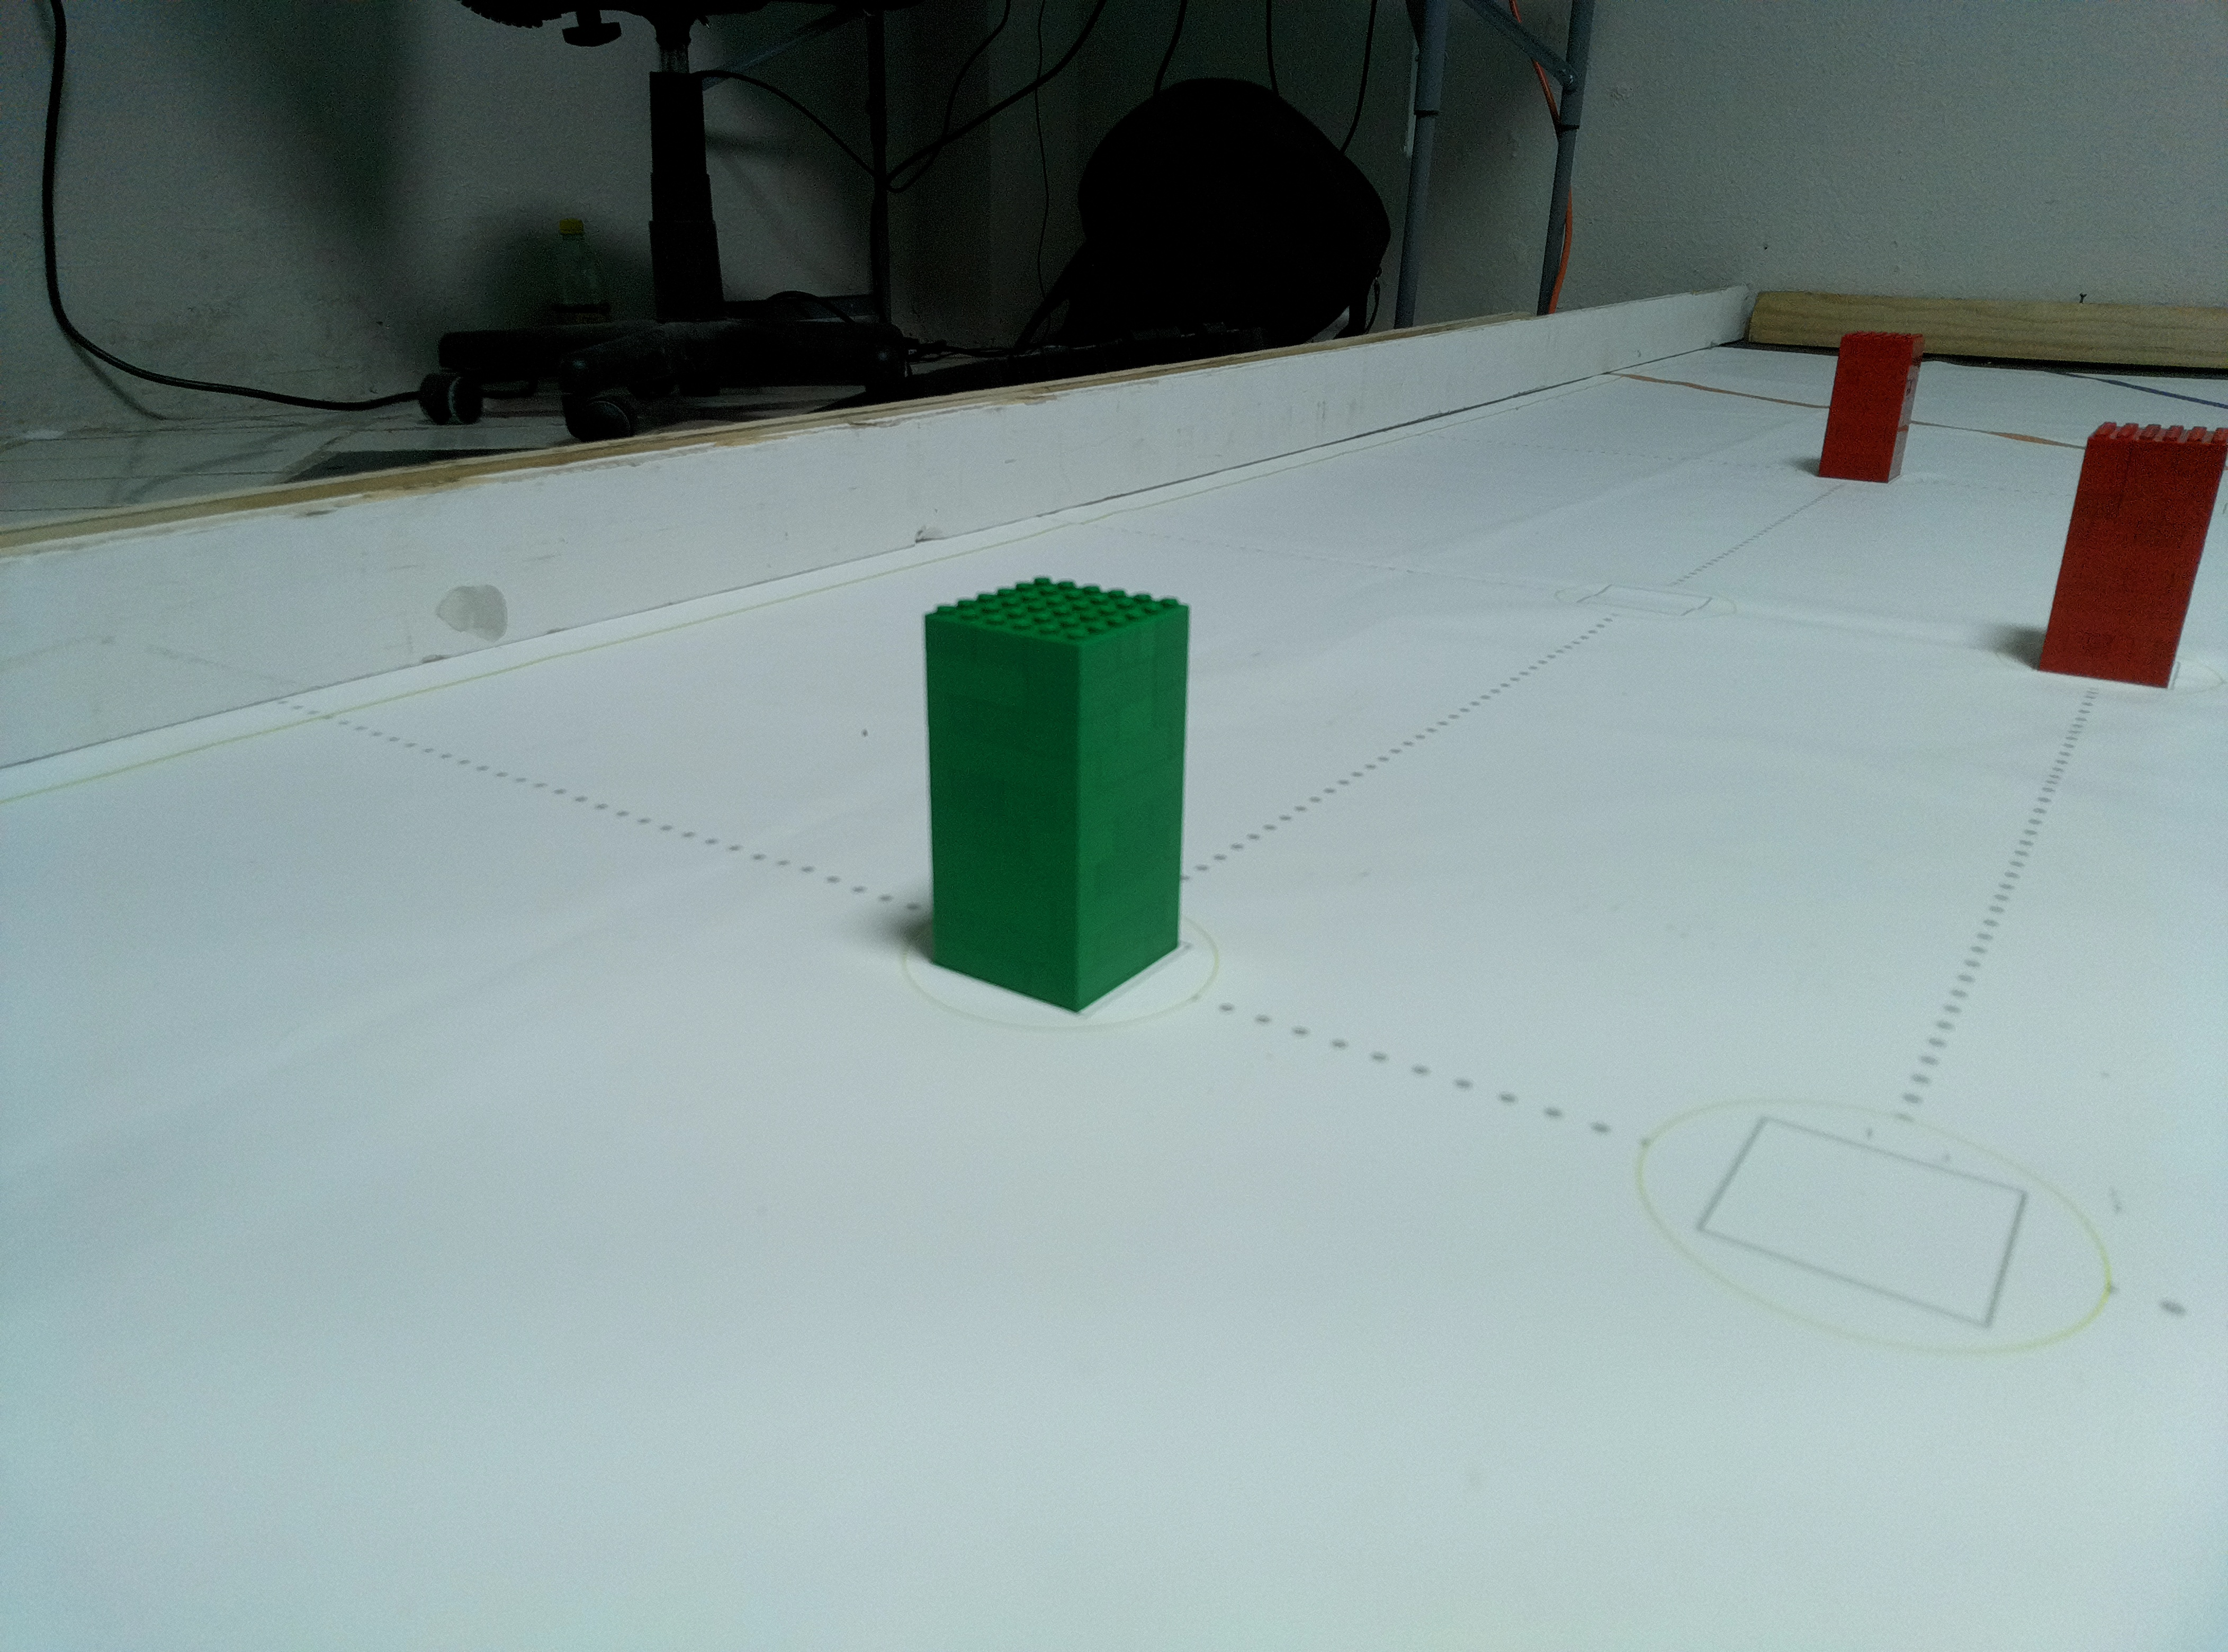greenbox: (916, 571, 1199, 1013)
redbox: (2032, 410, 2225, 694), (1815, 324, 1926, 482)
